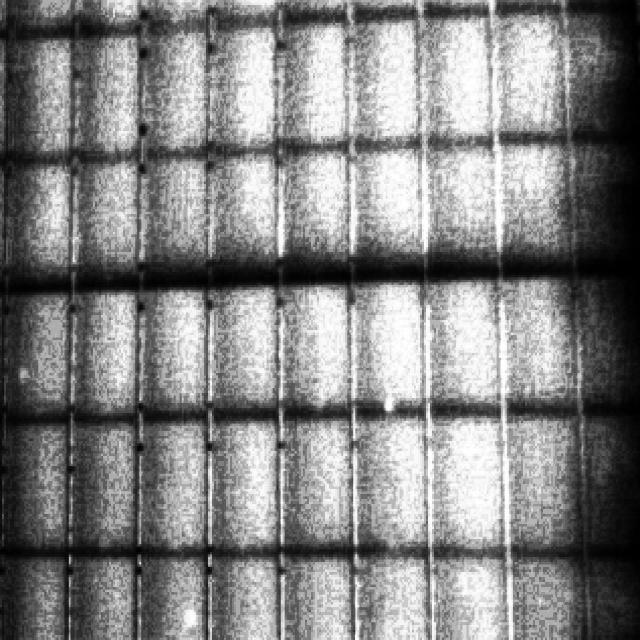Hotspots: (180, 604, 202, 640), (17, 364, 35, 388)
PV-modules: (272, 137, 353, 286), (498, 270, 578, 420), (507, 408, 585, 561), (428, 271, 513, 410), (351, 406, 432, 545), (348, 273, 429, 412), (433, 410, 513, 550), (348, 5, 422, 155), (494, 133, 572, 275), (348, 137, 428, 275), (68, 148, 148, 284), (423, 131, 498, 275), (202, 143, 280, 281), (494, 4, 568, 148), (280, 276, 357, 414), (283, 408, 361, 544), (205, 286, 280, 424), (422, 6, 496, 145), (205, 410, 280, 546), (68, 26, 148, 153), (574, 268, 639, 424), (569, 131, 640, 272), (69, 284, 143, 418), (209, 17, 285, 147), (568, 1, 640, 138), (6, 151, 79, 286), (144, 288, 216, 424), (146, 153, 218, 288), (5, 285, 77, 419), (68, 418, 142, 548), (142, 425, 215, 555), (2, 418, 75, 547), (277, 12, 348, 143), (4, 30, 78, 154), (506, 539, 596, 640), (577, 411, 640, 554), (140, 26, 209, 151), (351, 544, 436, 640), (430, 544, 515, 640), (282, 541, 361, 640), (204, 544, 279, 640), (131, 549, 208, 640), (65, 549, 139, 640), (0, 549, 71, 640), (585, 549, 640, 640), (75, 0, 143, 33), (6, 0, 73, 33), (208, 0, 286, 24), (148, 0, 211, 25), (0, 154, 4, 287), (0, 43, 4, 164), (0, 0, 10, 38), (0, 287, 2, 418)
